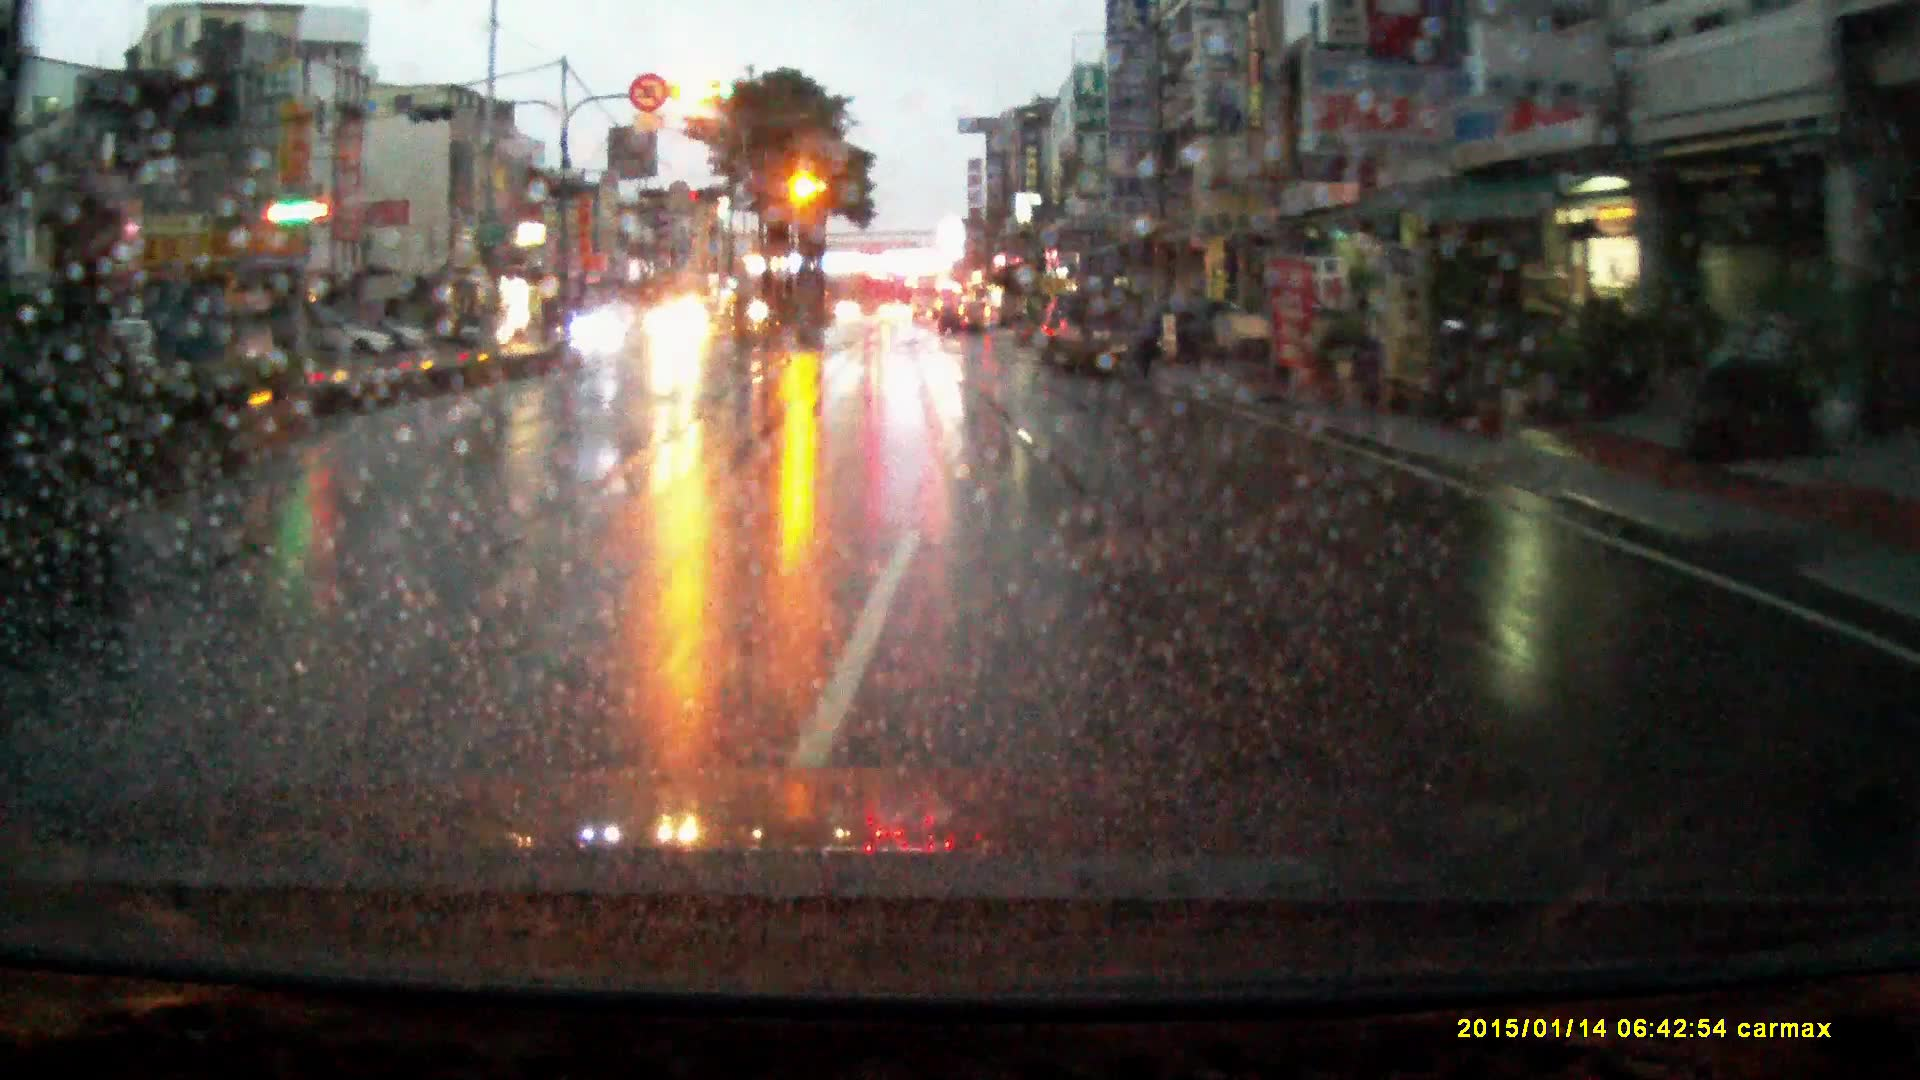vehicle: (1058, 281, 1160, 380), (646, 298, 717, 349), (303, 316, 390, 357), (572, 303, 633, 353), (1208, 311, 1279, 352), (1036, 291, 1069, 367), (938, 295, 994, 338), (458, 313, 517, 349), (375, 323, 429, 355), (911, 273, 944, 318), (878, 303, 913, 324)
